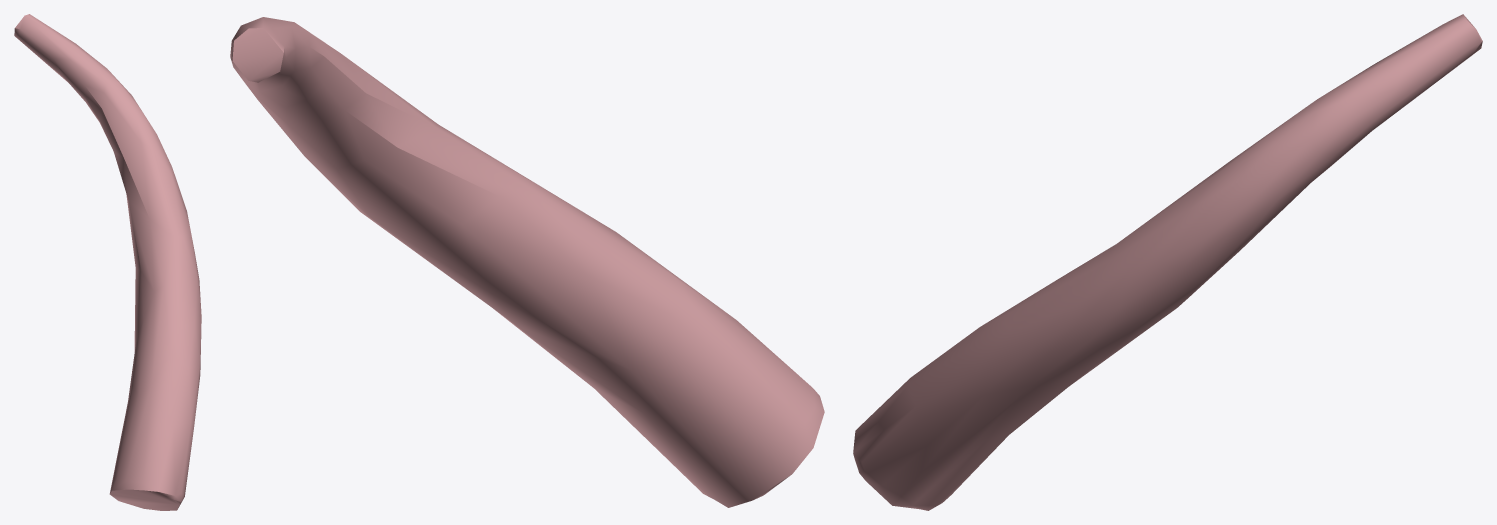
Rendered from fma68224_fj6519.glb.
The picture shows the model from 3 angles, left to right: view 1: azimuth 30°, elevation 25°; view 2: azimuth 150°, elevation 25°; view 3: azimuth 270°, elevation 25°; orthographic projection. The views are drawn at different scales.
Visible parts, largest first — view 1: FMA68224_FJ6519; view 2: FMA68224_FJ6519; view 3: FMA68224_FJ6519.
Boxes of the visible parts, box(x1,y1,x2,y2) form: FMA68224_FJ6519: box(14, 14, 201, 510); FMA68224_FJ6519: box(230, 17, 824, 507); FMA68224_FJ6519: box(853, 14, 1482, 510).
Bounding box in the file's own units: 0.0166 × 0.0351 × 0.0378.
